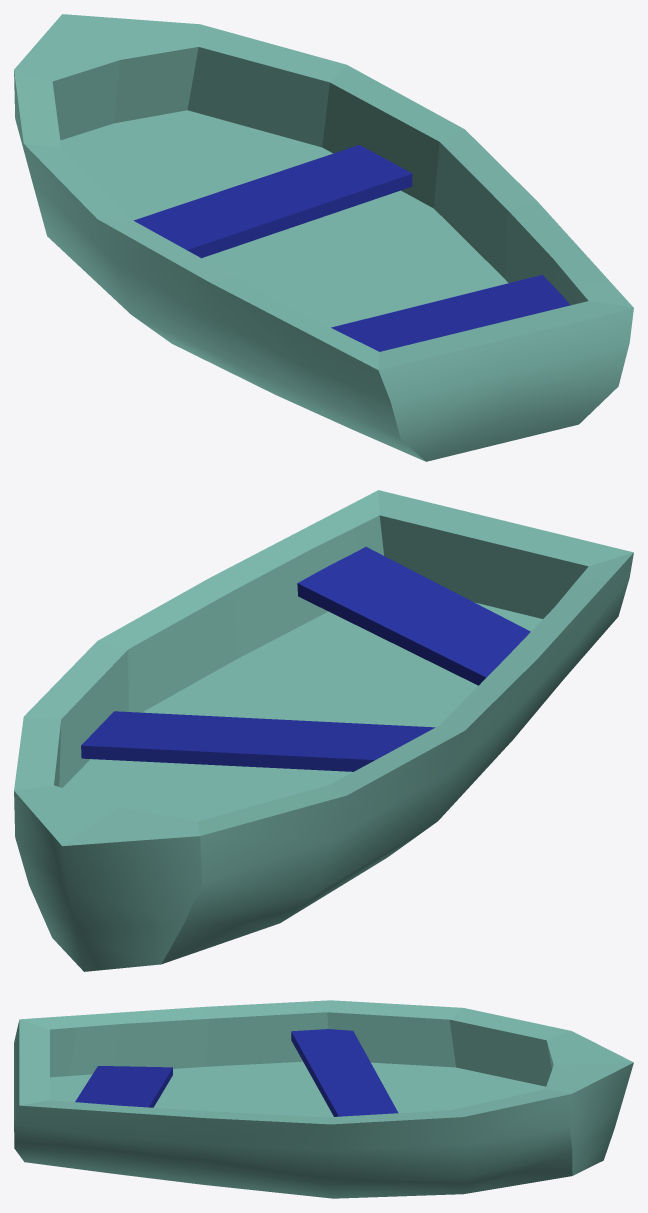
The model's file is Barque Loow.FBX.
3 renders of one model, top to bottom at view 1: azimuth 30°, elevation 25°; view 2: azimuth 150°, elevation 25°; view 3: azimuth 270°, elevation 25°, orthographic. The views are drawn at different scales.
Visible parts, largest first — view 1: Box001, Box002; view 2: Box001, Box002; view 3: Box001, Box002.
Boxes of the visible parts, x1,y1,x2,y2 form: Box001: [14, 14, 633, 461]; Box002: [133, 145, 570, 351]; Box001: [14, 490, 633, 971]; Box002: [81, 547, 530, 771]; Box001: [14, 1000, 633, 1198]; Box002: [75, 1029, 398, 1116].
Size of the model in its own units: 118 by 51.92 by 250.
